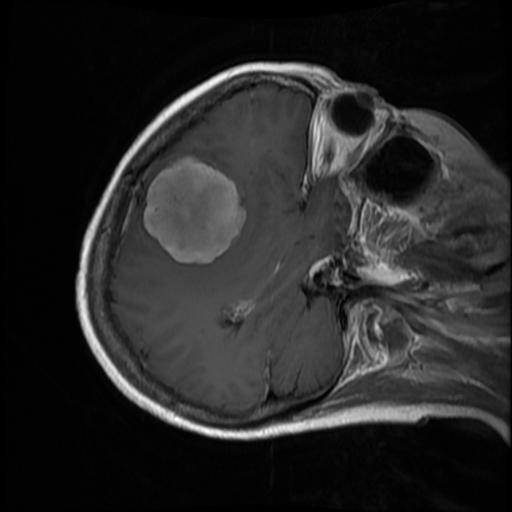meningioma: (142, 158, 244, 265)
